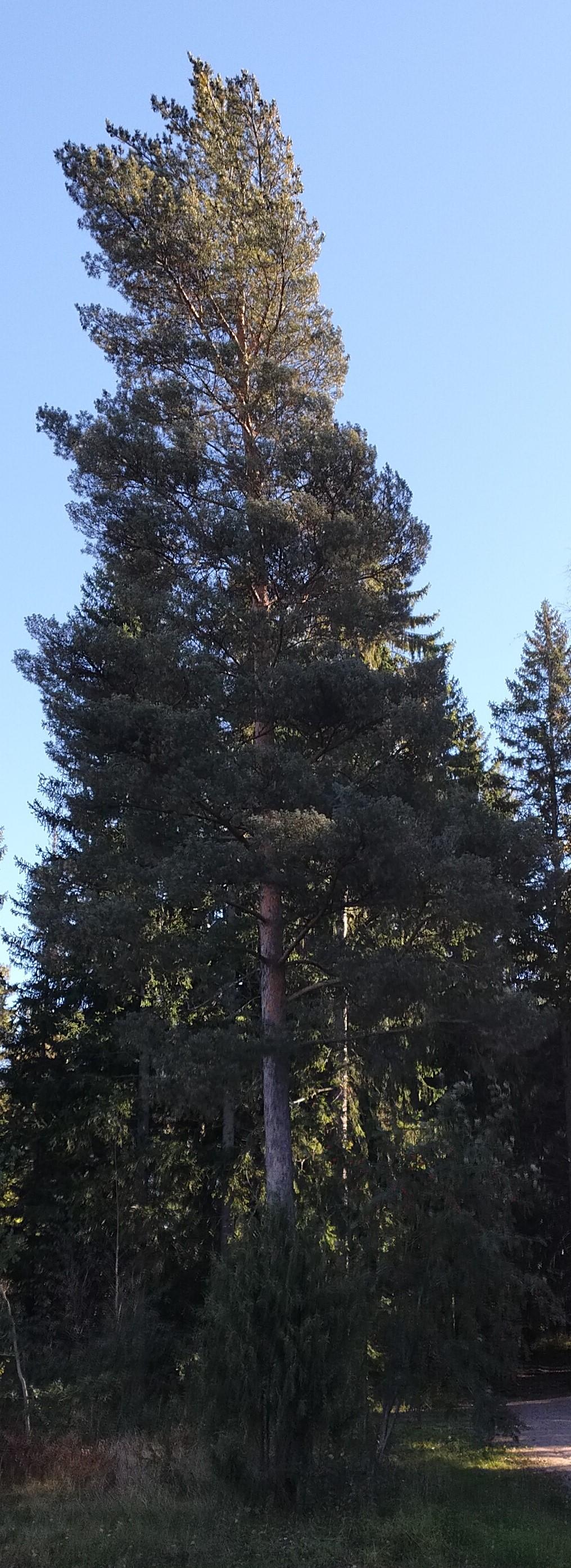Pine: (16, 46, 491, 1426)
